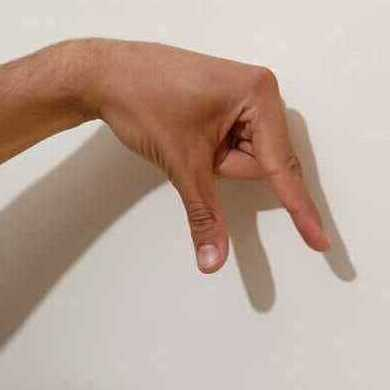Q: (101, 37, 331, 275)
